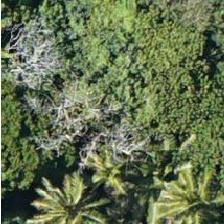coconut_tree: (65, 120, 155, 210), (139, 150, 223, 223), (28, 161, 118, 223)
